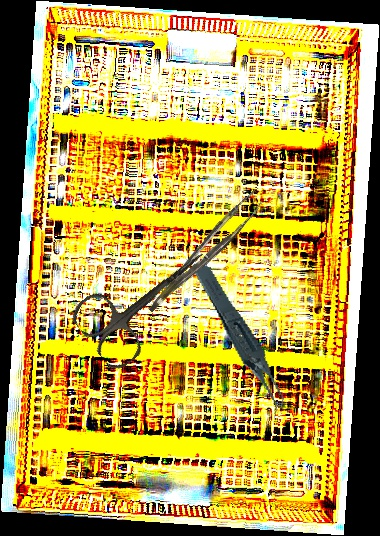Iris Scissors: (66, 224, 228, 375)
Tissue Forceps: (191, 252, 289, 430), (135, 190, 270, 313)
